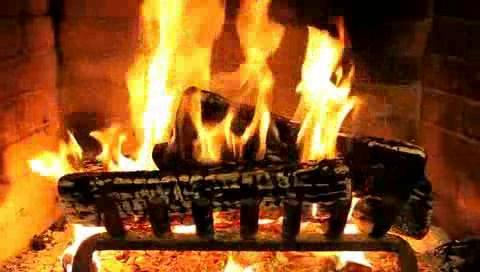fire: (126, 6, 364, 164)
